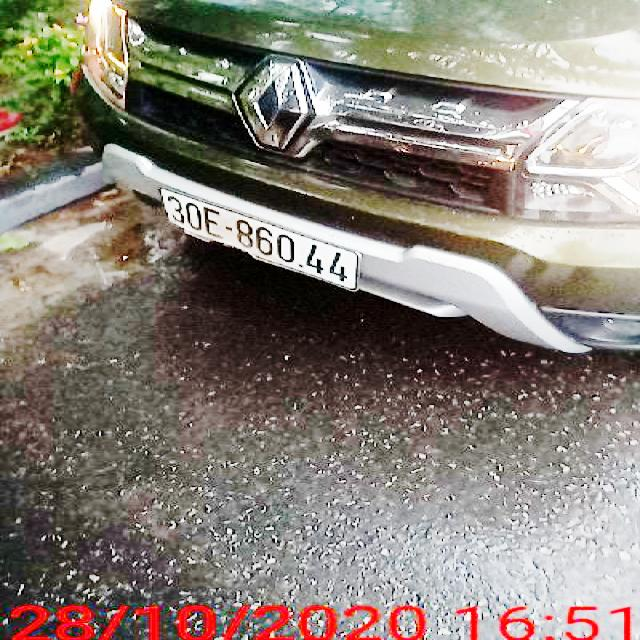license_plate: (161, 187, 357, 291)
